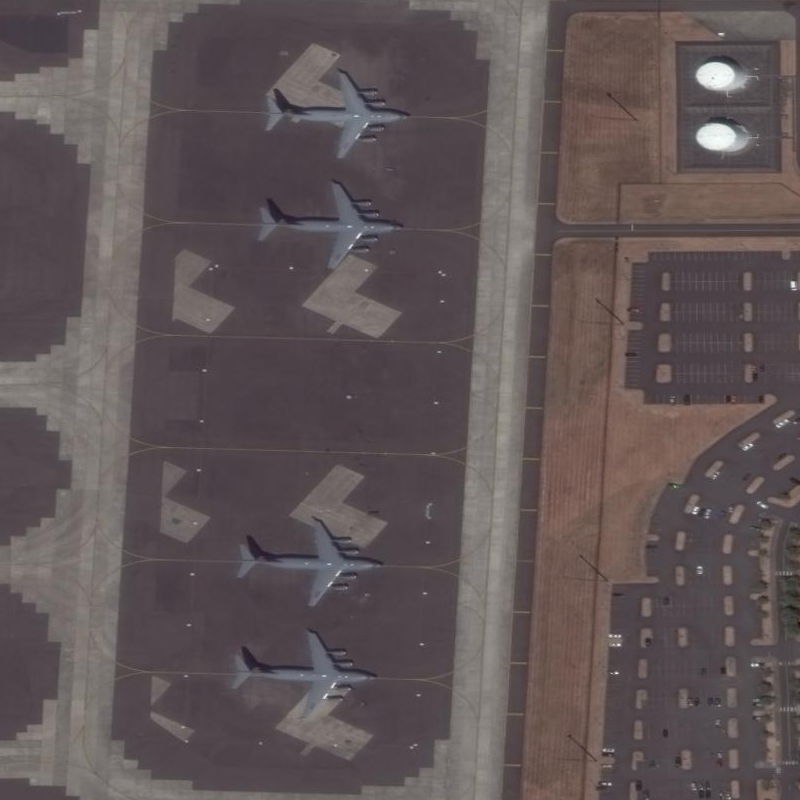A3: (219, 622, 384, 725), (256, 60, 415, 164), (249, 173, 407, 276), (229, 511, 385, 612)
